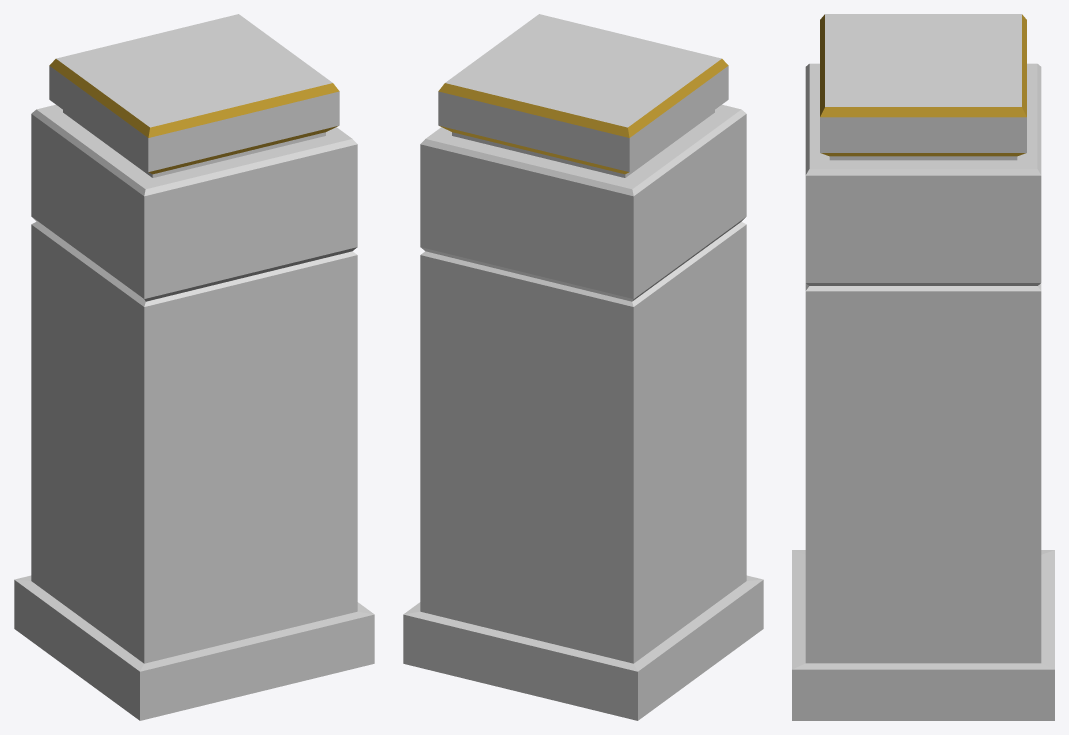
File: BreakAble_Piller_Solid.fbx
3 views of the same model, side by side, from view 1: azimuth 30°, elevation 25°; view 2: azimuth 150°, elevation 25°; view 3: azimuth 270°, elevation 25° (orthographic). The views are drawn at different scales.
Parts seen in each view (by area): view 1: Cube.075; view 2: Cube.075; view 3: Cube.075.
Boxes of the visible parts, x1,y1,x2,y2 form: Cube.075: (14, 14, 374, 720); Cube.075: (403, 14, 763, 720); Cube.075: (792, 14, 1054, 720).
Bounding box in the file's own units: 144 × 338 × 134.
